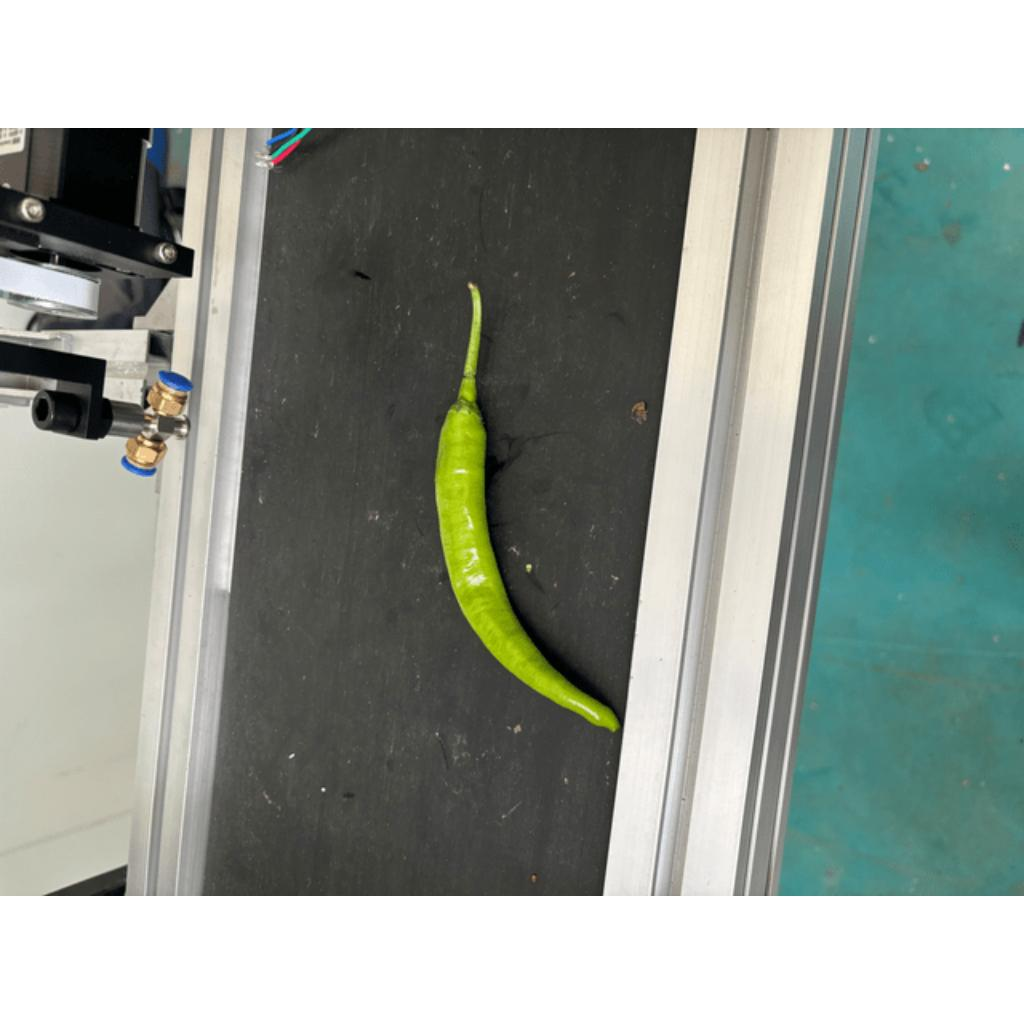chili: (431, 400, 624, 734)
